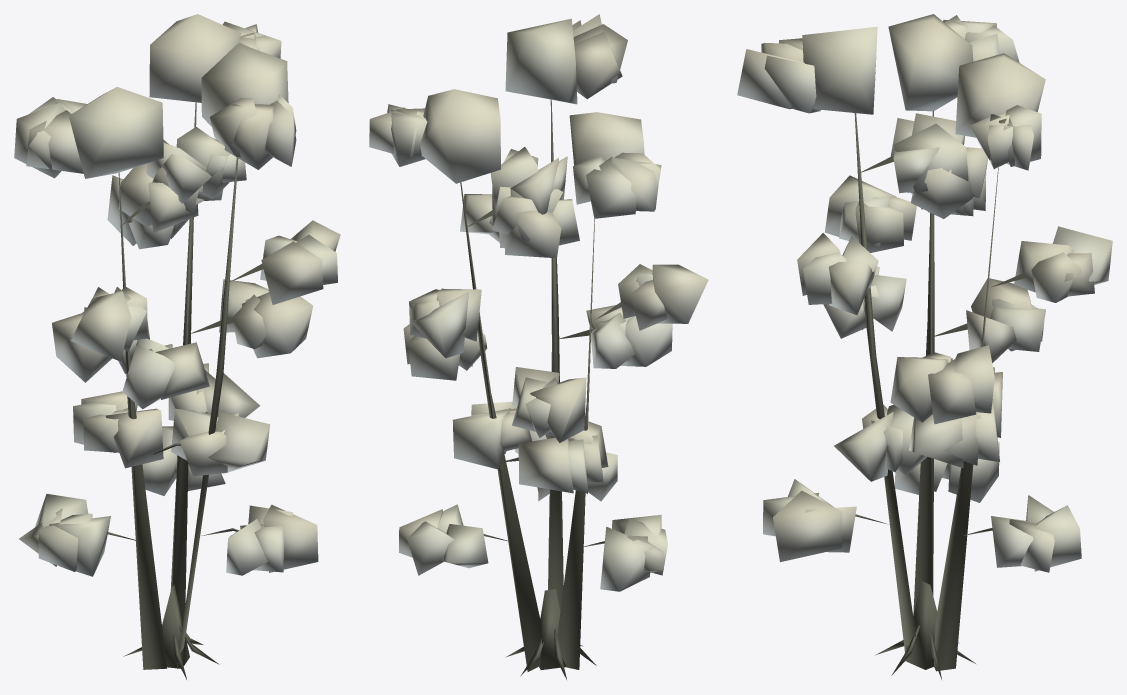
3 views of the same model, side by side, from view 1: azimuth 30°, elevation 25°; view 2: azimuth 150°, elevation 25°; view 3: azimuth 270°, elevation 25° (orthographic). The views are drawn at different scales.
Visible parts, largest first — view 1: crown, trunk; view 2: crown, trunk; view 3: crown, trunk.
Part boxes in pixels (box(x1,y1,x2,y2)): crown: box(14, 14, 340, 576); trunk: box(108, 102, 263, 679); crown: box(369, 14, 708, 591); trunk: box(460, 99, 621, 679); crown: box(737, 14, 1112, 572); trunk: box(854, 110, 1025, 679).
Bounding box in the file's own units: 5.53 × 12.03 × 6.21.
